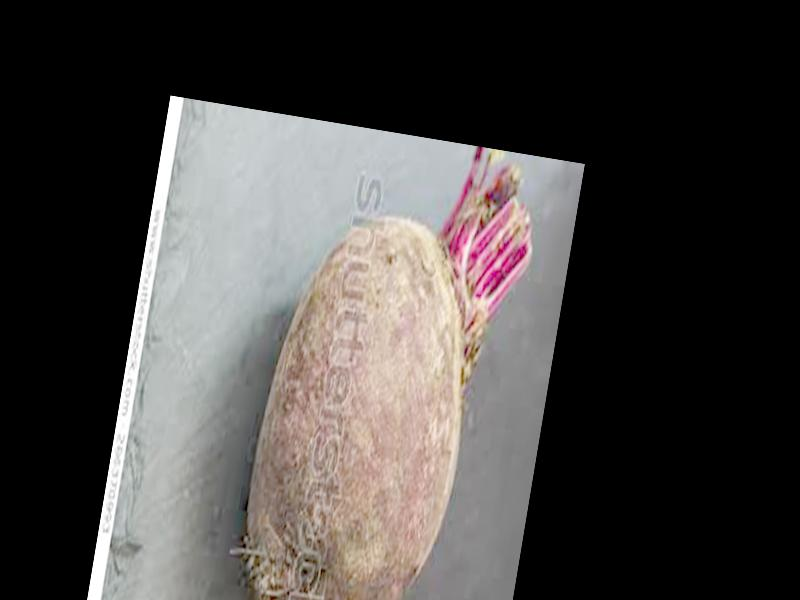Beet: (229, 122, 544, 600)
